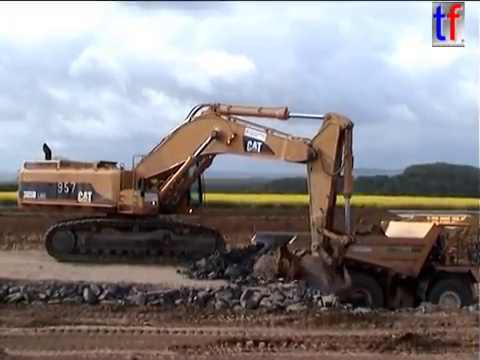excavator: (14, 99, 361, 305)
truck: (248, 211, 480, 330)
